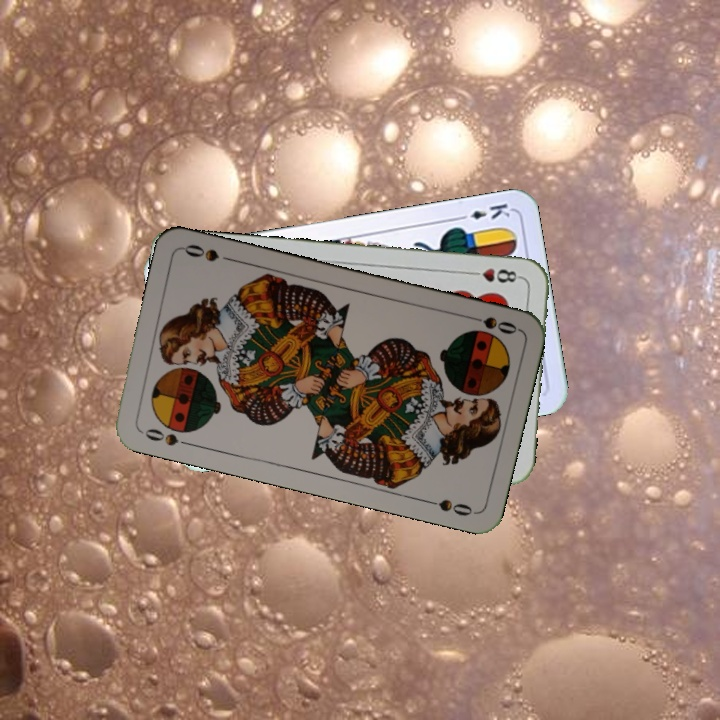EK: (453, 199, 513, 223)
H8: (464, 264, 524, 286)
SO: (462, 311, 520, 337), (136, 424, 194, 449)
